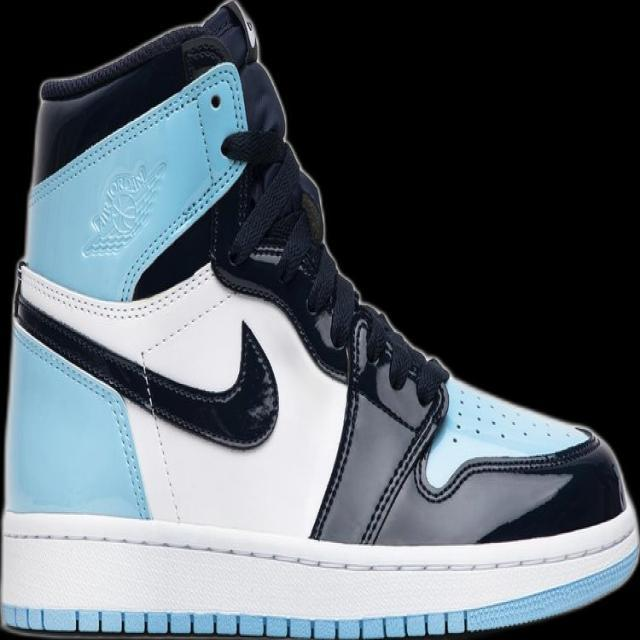J1_InsoleChar: (0, 0, 638, 639)
J1_ShoeLogo: (80, 158, 168, 257)
J1_StitchPattern: (9, 260, 600, 541), (215, 124, 598, 539), (1, 519, 637, 636), (218, 126, 449, 410), (11, 283, 280, 449), (309, 299, 450, 544), (1, 523, 637, 576), (218, 126, 362, 347), (2, 605, 469, 639), (218, 126, 326, 273), (308, 309, 372, 542), (357, 384, 448, 546), (13, 260, 215, 322), (347, 299, 449, 408), (449, 384, 565, 447)
